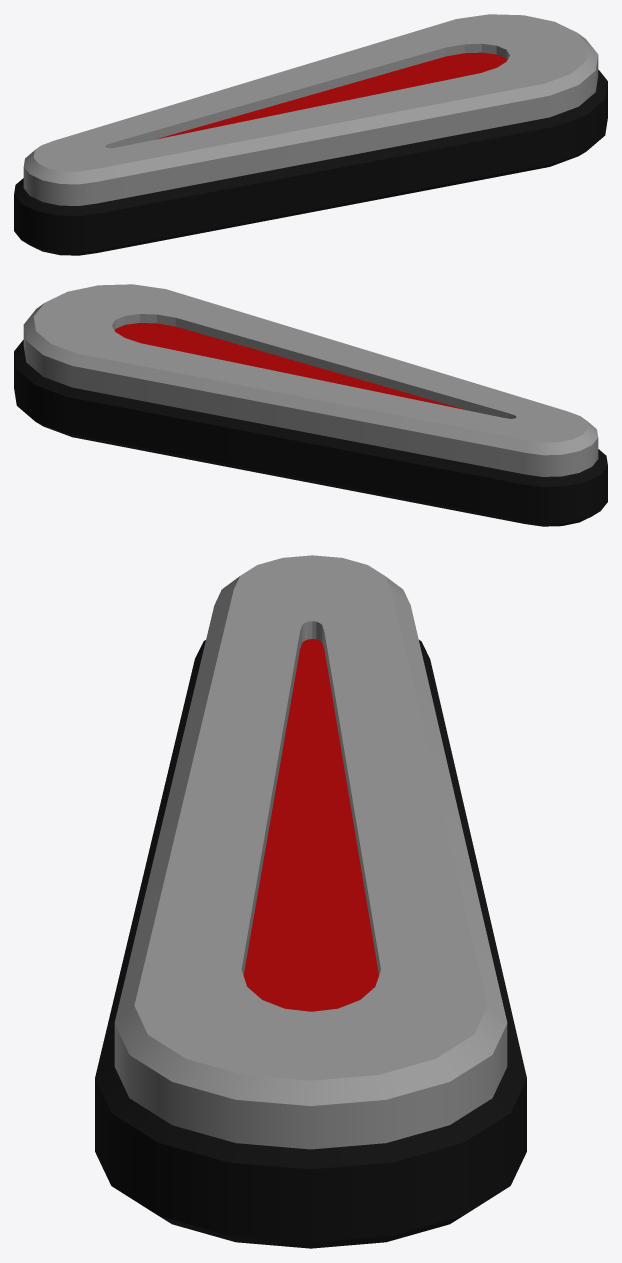
Rendered from FlipperkastFlipper.FBX.
3 views of the same model, one above another, from view 1: azimuth 30°, elevation 25°; view 2: azimuth 150°, elevation 25°; view 3: azimuth 270°, elevation 25° (orthographic). The views are drawn at different scales.
Visible parts, largest first — view 1: Flipper; view 2: Flipper; view 3: Flipper.
Part boxes in pixels (<box>): Flipper: <box>14,14,607,255</box>; Flipper: <box>14,284,607,526</box>; Flipper: <box>95,555,526,1248</box>.
Size of the model in its own units: 6.73 by 0.8954 by 2.2.
